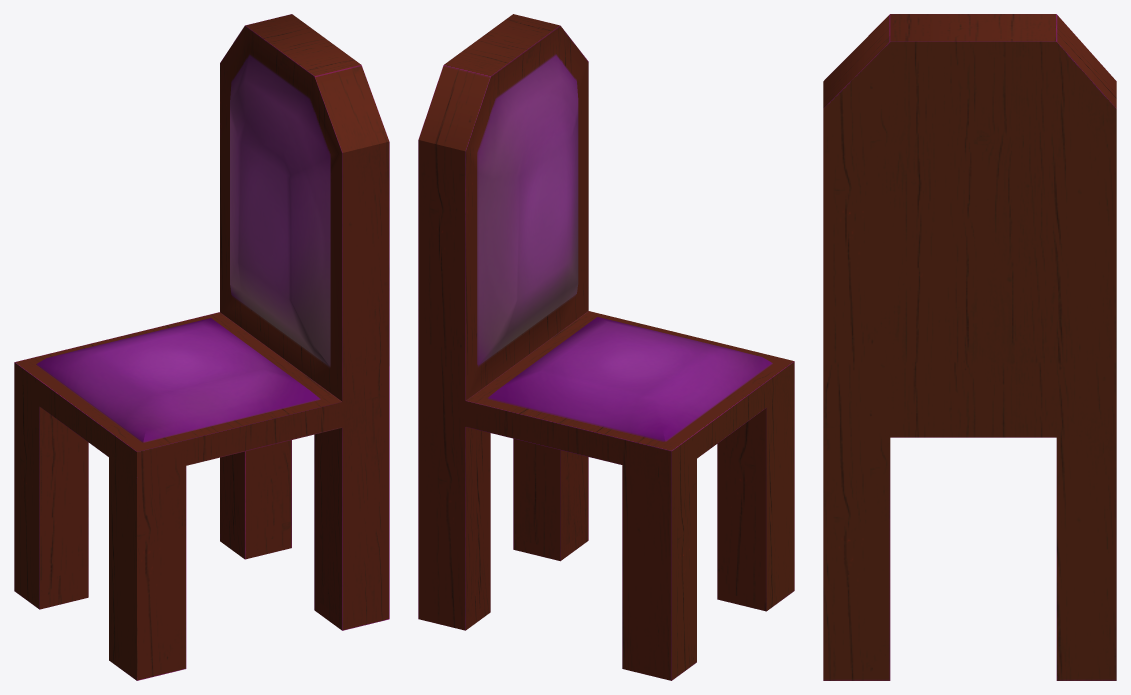
Rendered from dinningchair.fbx.
3 renders of one model, left to right at view 1: azimuth 30°, elevation 25°; view 2: azimuth 150°, elevation 25°; view 3: azimuth 270°, elevation 25°, orthographic. The views are drawn at different scales.
Parts seen in each view (by area): view 1: pCube1; view 2: pCube1; view 3: pCube1.
Part boxes in pixels (bbox=[...]): pCube1: bbox=[14, 14, 389, 680]; pCube1: bbox=[418, 14, 794, 680]; pCube1: bbox=[823, 14, 1116, 680].
Bounding box in the file's own units: 27.96 × 56.51 × 23.5.
Materials: 1 (1 with a texture image).
